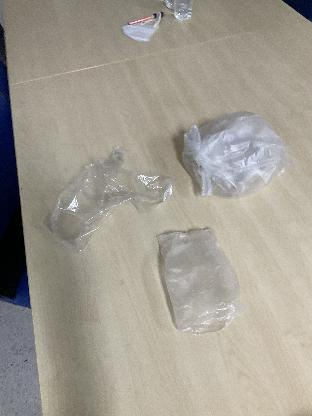Others: (41, 132, 173, 256), (171, 102, 299, 198), (137, 218, 242, 332)
